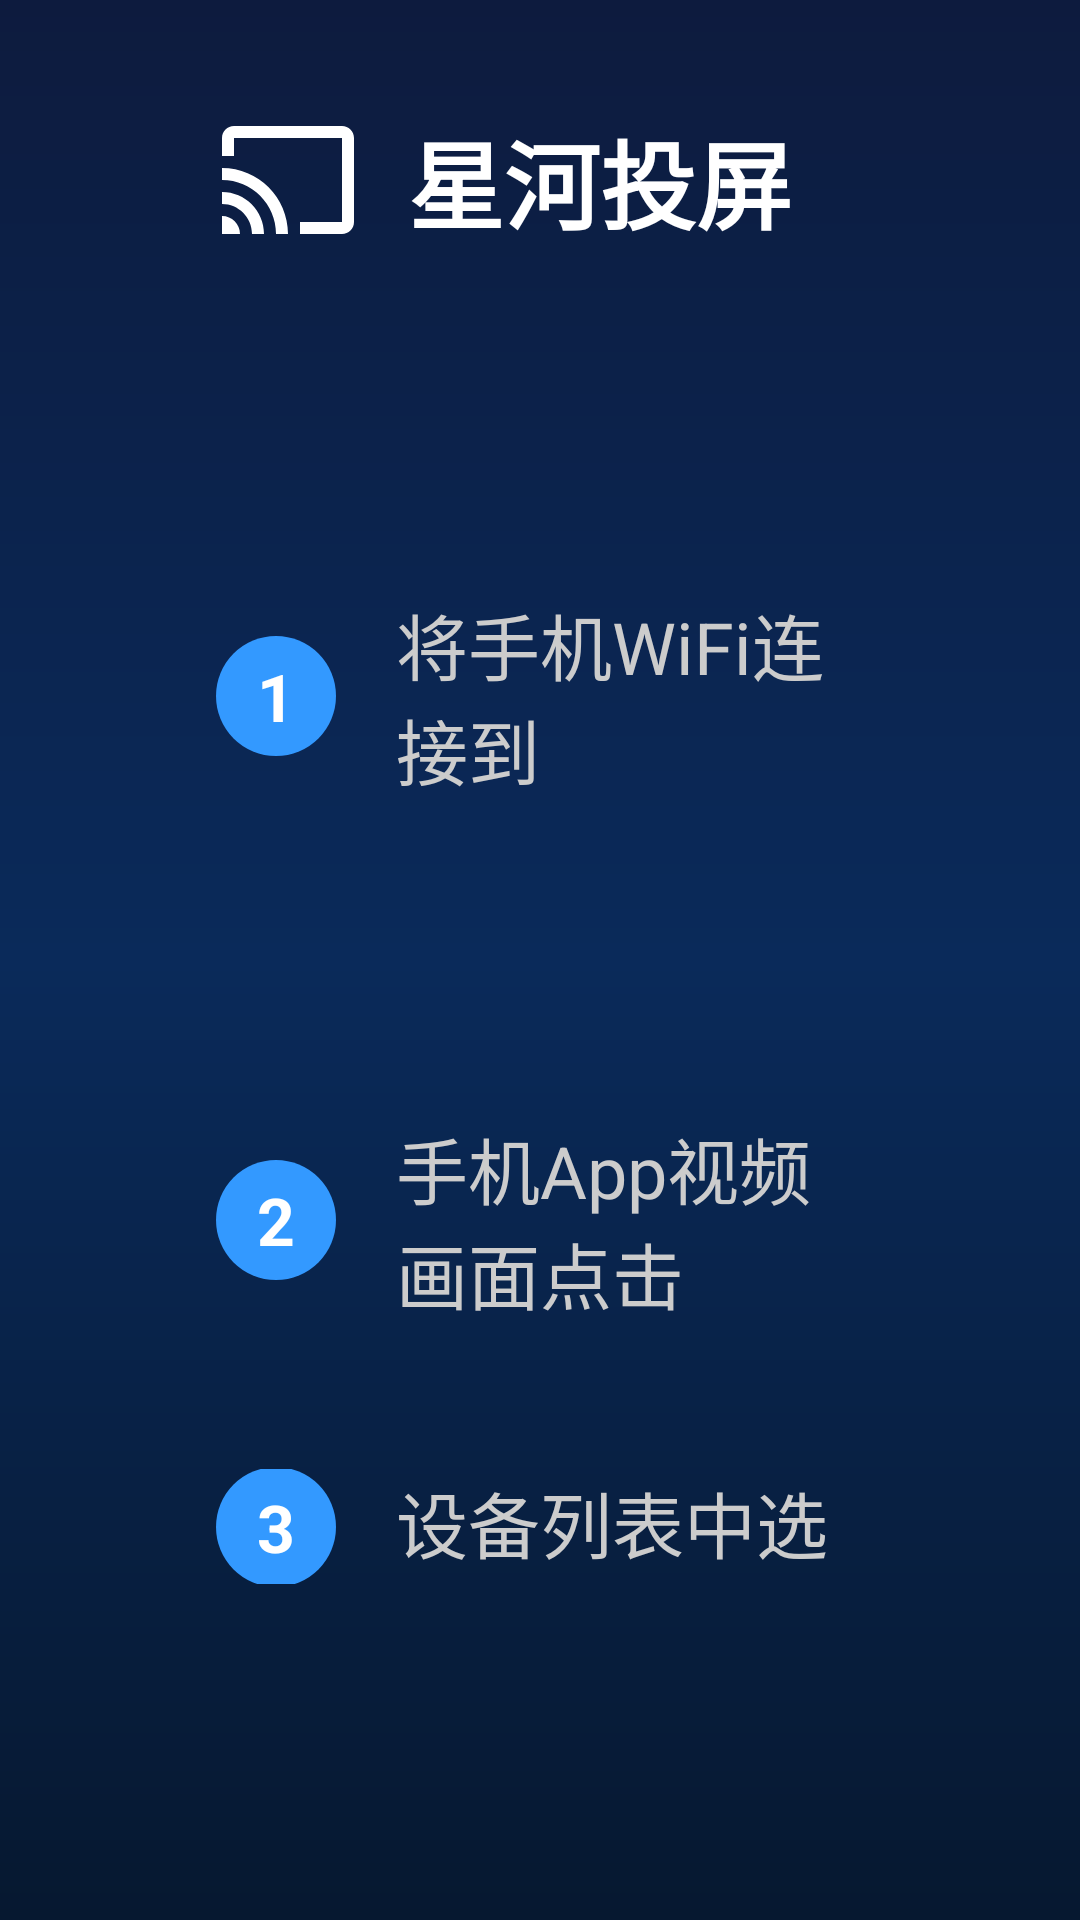

Icons on this 1080px×1920px Android screen, each with the point to tap as point (x, y):
cast: point (288, 180)
